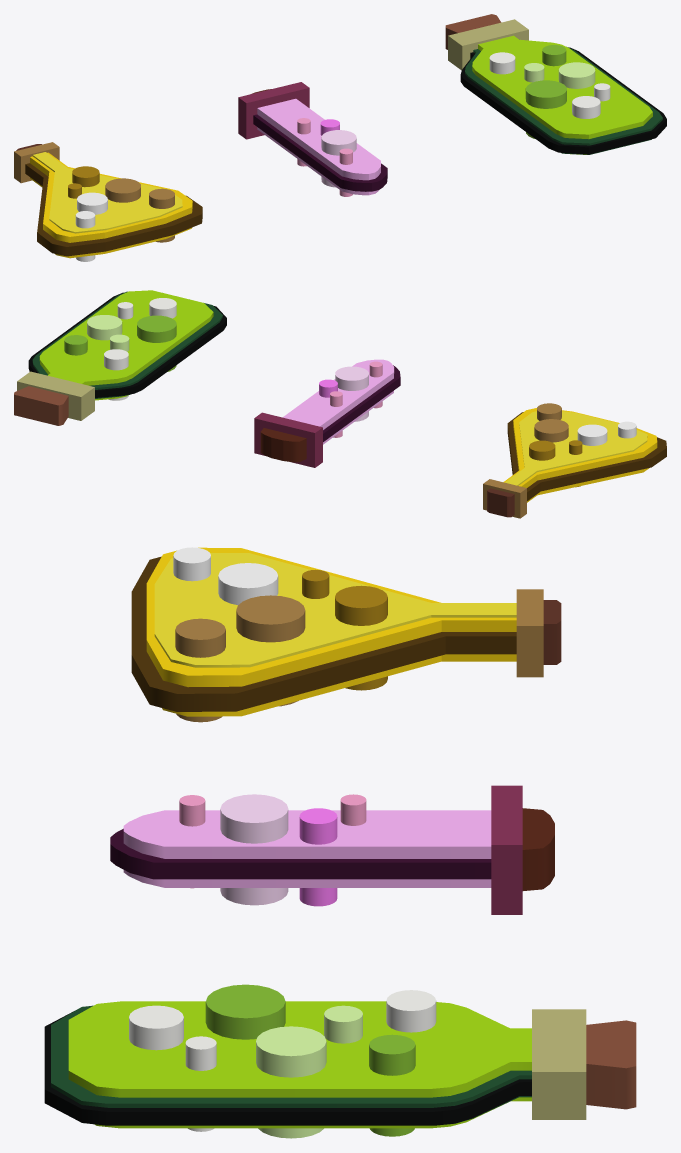
File: pingzi_fbx.fbx
3 renders of one model, top to bottom at view 1: azimuth 30°, elevation 25°; view 2: azimuth 150°, elevation 25°; view 3: azimuth 270°, elevation 25°, orthographic. The views are drawn at different scales.
Parts seen in each view (by area): view 1: bottle3, bottle1, bottle2; view 2: bottle3, bottle1, bottle2; view 3: bottle3, bottle1, bottle2.
Part boxes in pixels (bbox=[...]): bottle3: bbox=[445, 14, 666, 154]; bottle1: bbox=[14, 142, 202, 261]; bottle2: bbox=[238, 82, 387, 196]; bottle3: bbox=[14, 290, 226, 425]; bottle1: bbox=[483, 403, 666, 518]; bottle2: bbox=[254, 359, 400, 467]; bottle3: bbox=[44, 984, 636, 1138]; bottle1: bbox=[131, 547, 561, 722]; bottle2: bbox=[110, 785, 554, 914].
Bounding box in the file's own units: 29.04 × 2 × 13.03.
